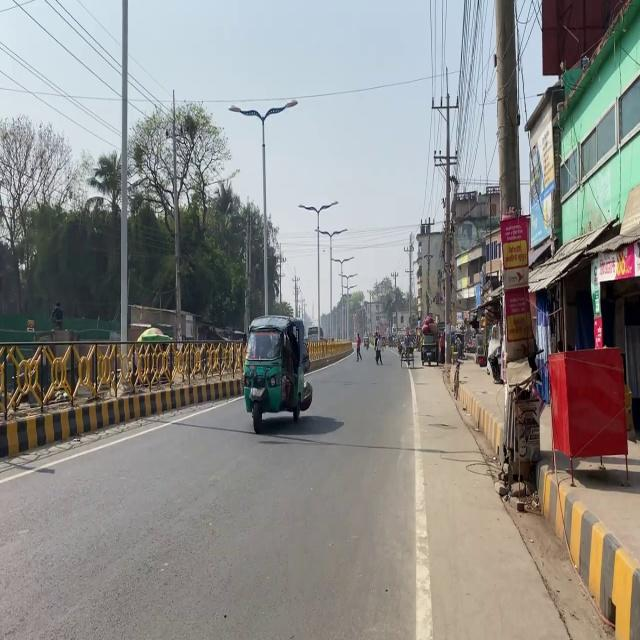Construction-barrier: (0, 372, 243, 458), (536, 461, 639, 638)
Downstairs: (500, 371, 543, 497)
Fallen-tree: (486, 344, 502, 383), (399, 339, 414, 368)
Garbage: (546, 345, 629, 487), (419, 334, 438, 366)
Garbage-bin: (51, 302, 63, 330), (355, 332, 362, 361)
Light-pole: (117, 0, 130, 364)
Pothole: (409, 349, 614, 638)
Traffic-cone: (241, 314, 312, 433)
